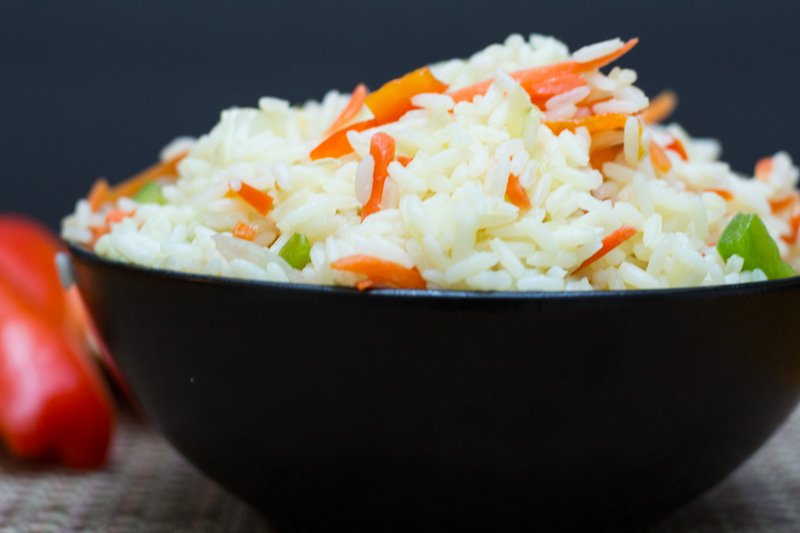plain rice: (88, 42, 800, 285)
